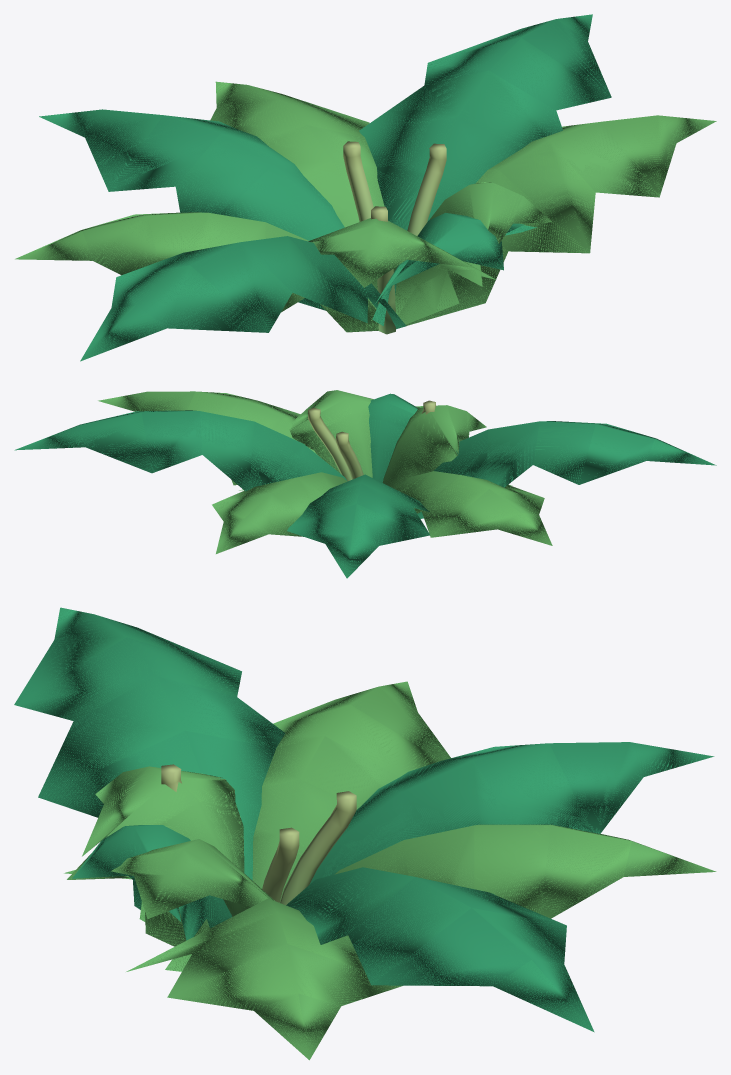
File: verdant_bush_fern.glb
3 renders of one model, top to bottom at view 1: azimuth 30°, elevation 25°; view 2: azimuth 150°, elevation 25°; view 3: azimuth 270°, elevation 25°, orthographic. The views are drawn at different scales.
Visible parts, largest first — view 1: verdant_bush_fern; view 2: verdant_bush_fern; view 3: verdant_bush_fern.
Boxes of the visible parts, left/top/right/bottom form: verdant_bush_fern: left=15, top=14, right=716, bottom=361; verdant_bush_fern: left=14, top=390, right=716, bottom=578; verdant_bush_fern: left=14, top=607, right=716, bottom=1060.
Size of the model in its own units: 2.07 by 0.4457 by 1.42.
